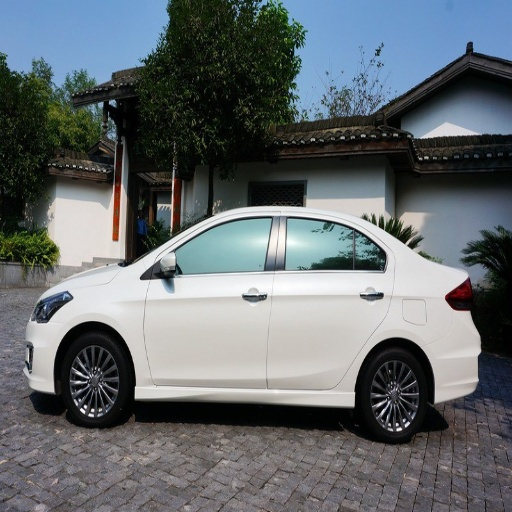back_bumper: (427, 331, 481, 401)
back_left_door: (269, 215, 393, 389)
front_left_door: (144, 215, 279, 387)
